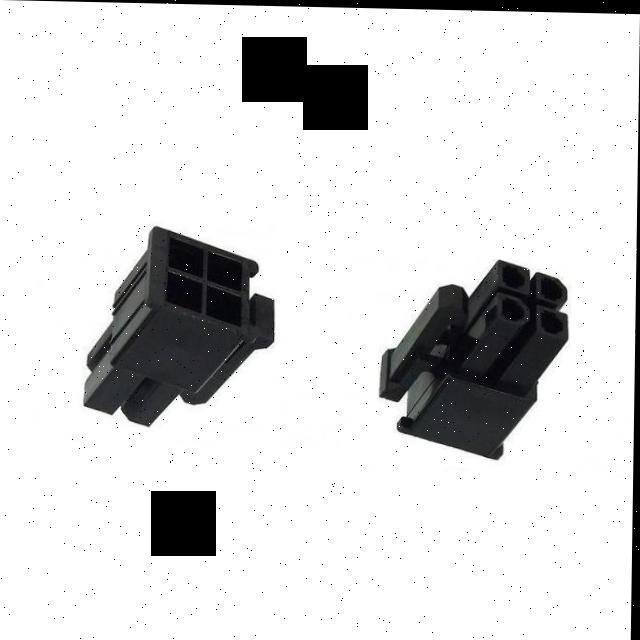connector: (381, 258, 568, 457)
